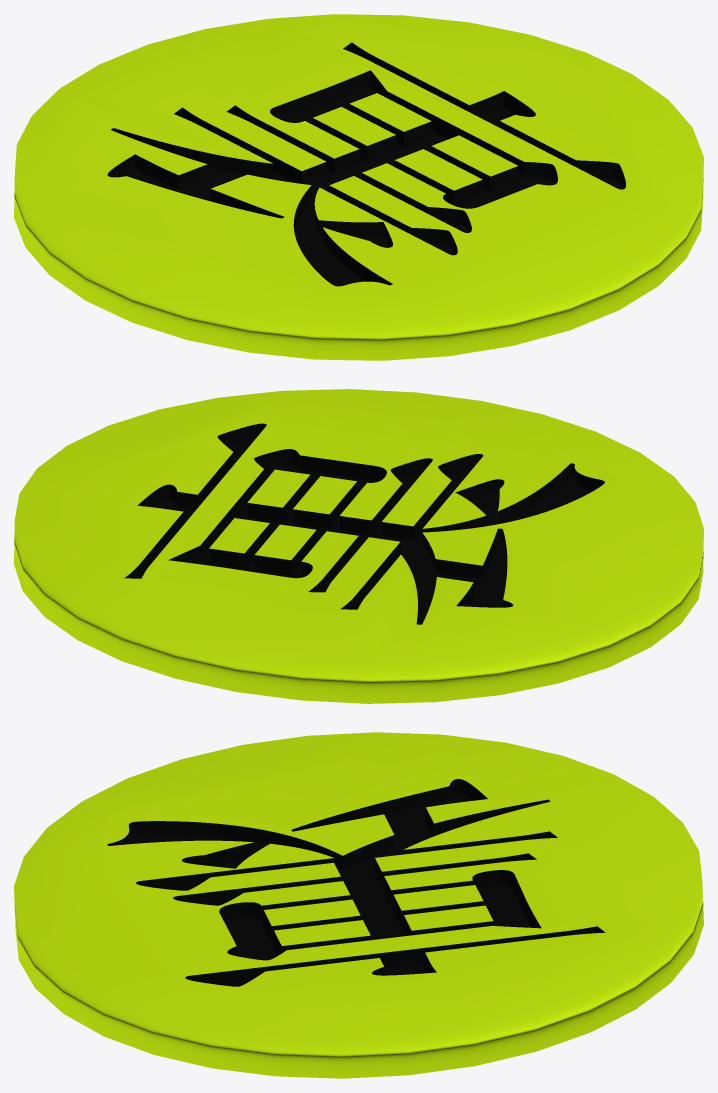
Rendered from コイントス（表裏）.glb.
3 renders of one model, top to bottom at view 1: azimuth 30°, elevation 25°; view 2: azimuth 150°, elevation 25°; view 3: azimuth 270°, elevation 25°, orthographic. The views are drawn at different scales.
Visible parts, largest first — view 1: 円柱; view 2: 円柱; view 3: 円柱.
Boxes of the visible parts, bbox=[...] form: 円柱: bbox=[14, 14, 703, 360]; 円柱: bbox=[14, 389, 703, 703]; 円柱: bbox=[14, 732, 703, 1078].
Bounding box in the file's own units: 1.69 × 0.1715 × 1.65.
